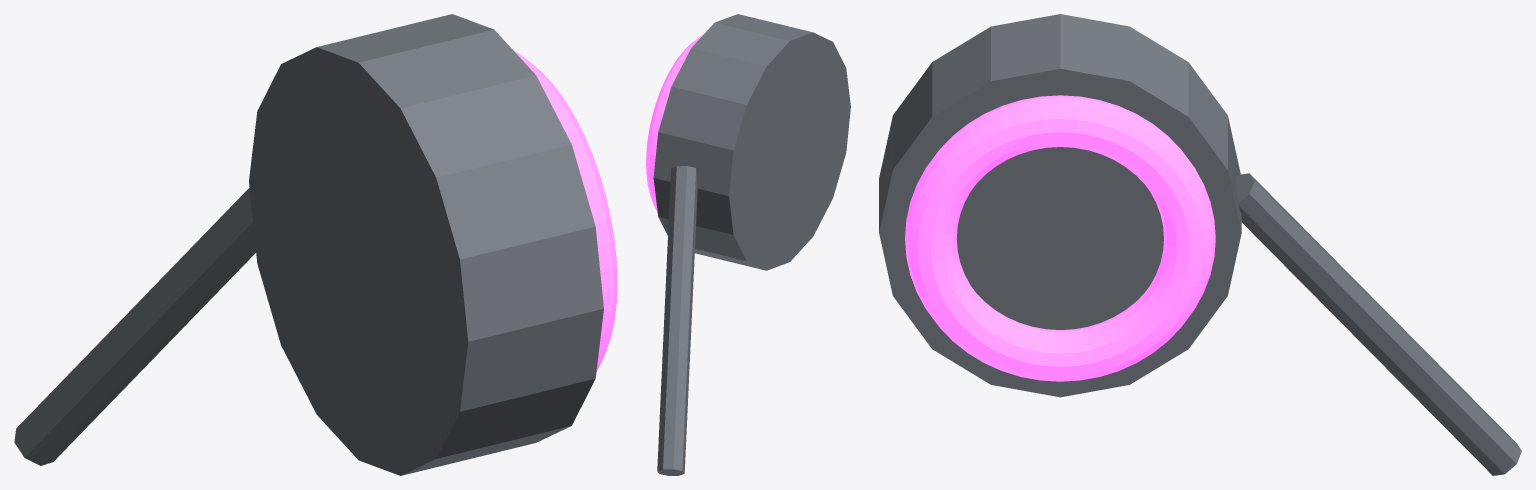
The model's file is neural_headset.glb.
3 views of the same model, side by side, from view 1: azimuth 30°, elevation 25°; view 2: azimuth 150°, elevation 25°; view 3: azimuth 270°, elevation 25° (orthographic). The views are drawn at different scales.
Parts seen in each view (by area): view 1: NeuralHeadset; view 2: NeuralHeadset; view 3: NeuralHeadset.
Part boxes in pixels (x1=…): NeuralHeadset: x1=14, y1=14, x2=617, y2=475; NeuralHeadset: x1=646, y1=14, x2=850, y2=475; NeuralHeadset: x1=879, y1=14, x2=1521, y2=475.
Bounding box in the file's own units: 0.0464 × 0.1021 × 0.1241.
